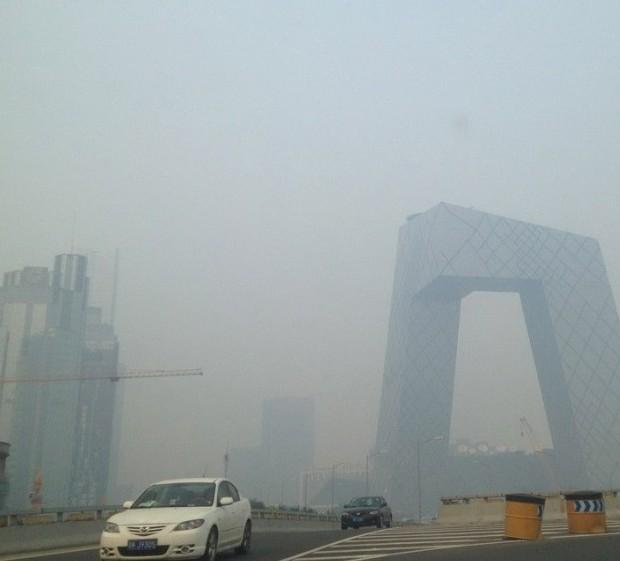car: (98, 475, 256, 558), (340, 493, 392, 530)
